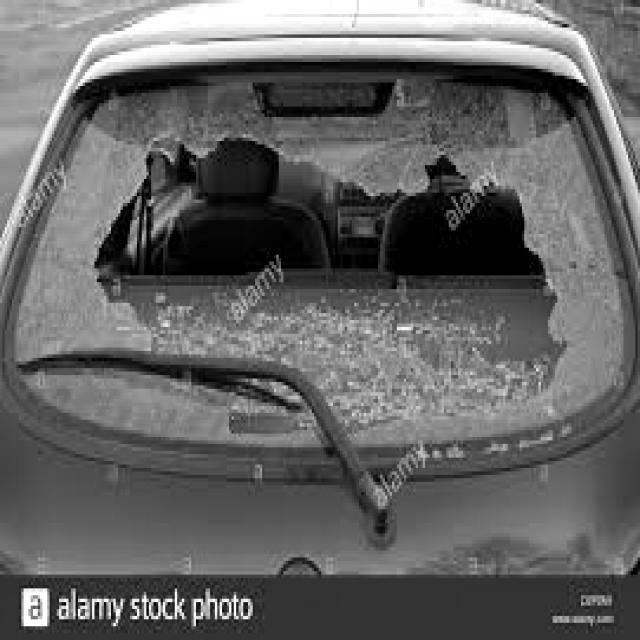Rear-windscreen-Damage: (1, 19, 638, 566)
